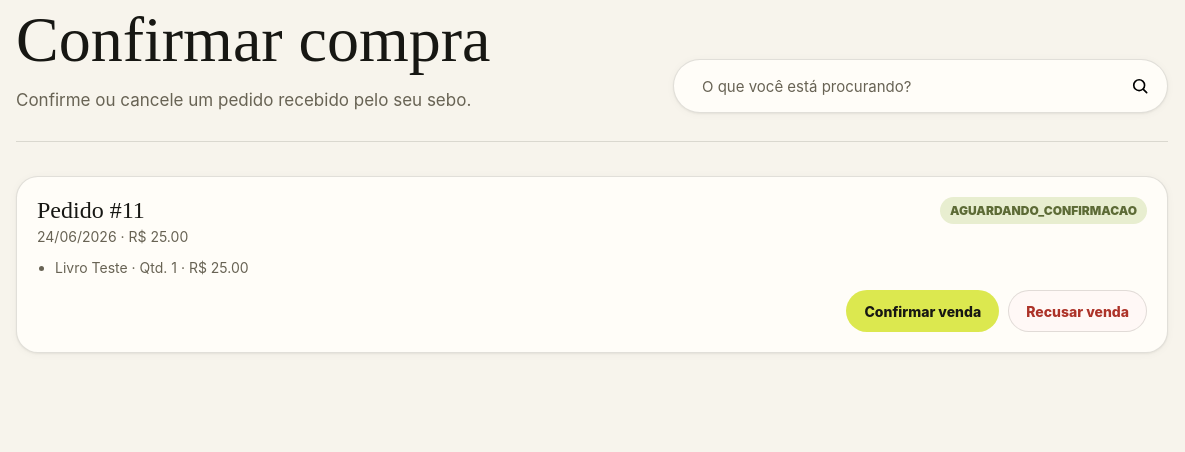
cobertura de branches restantes › confirma venda em confirmacao de pedido
The image size is (1185, 452).
Click the button "Confirmar venda".
click(923, 311)  # box [846, 290, 999, 332]
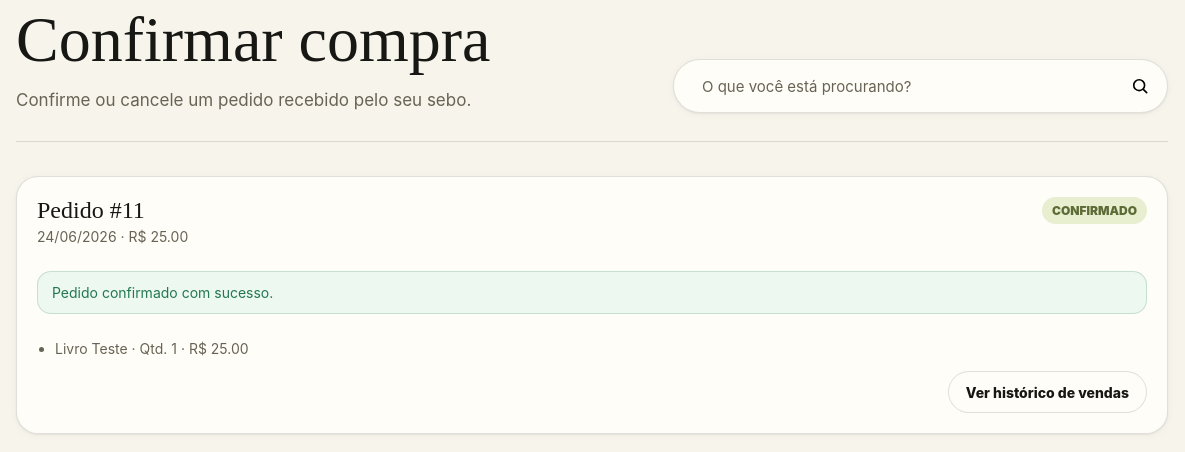
Check: the text "Pedido confirmado com sucesso." is shown, box [37, 271, 1147, 314]
